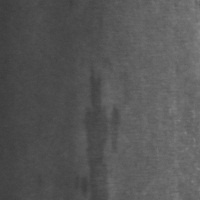inclusion: (76, 69, 123, 199)
